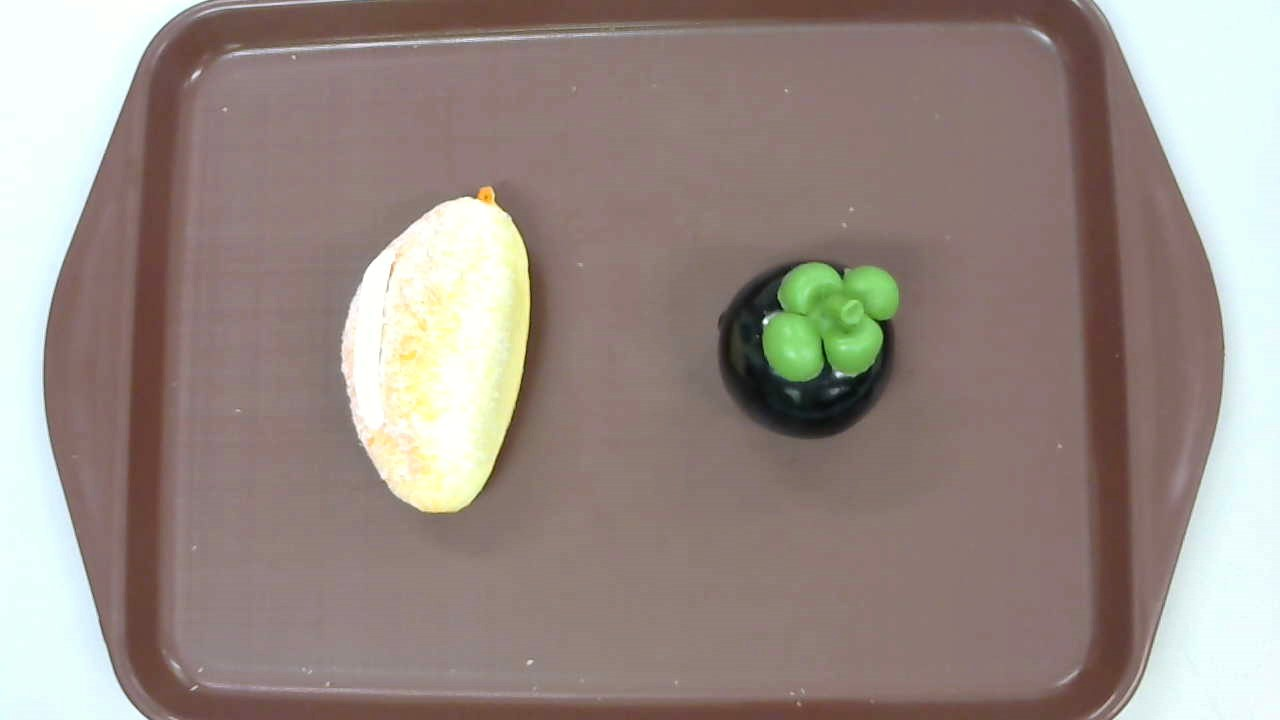coconut: (339, 185, 530, 515)
mangosteen: (716, 260, 898, 441)
